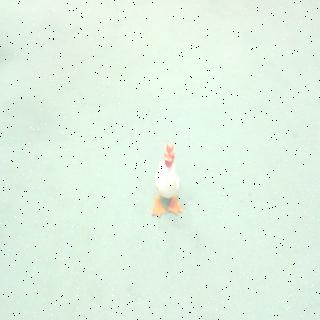duck: (143, 134, 196, 224)
